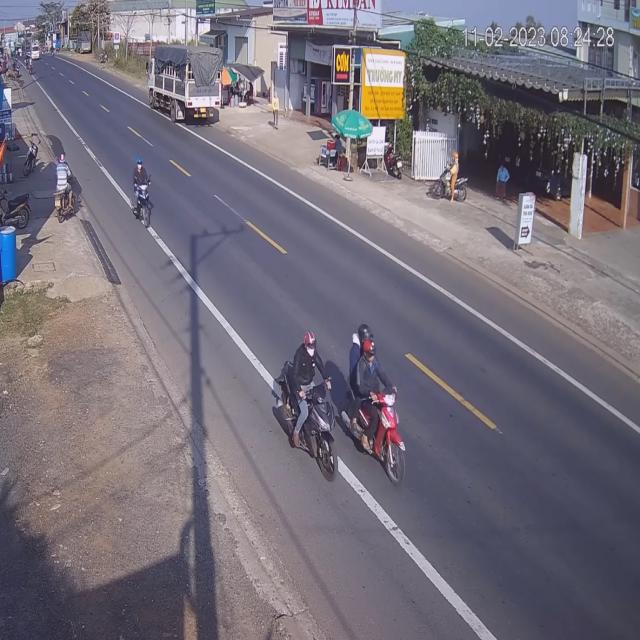motorbike: (348, 324, 403, 484), (273, 332, 333, 474), (56, 159, 82, 226), (131, 158, 154, 226)
truck: (147, 44, 223, 126)
